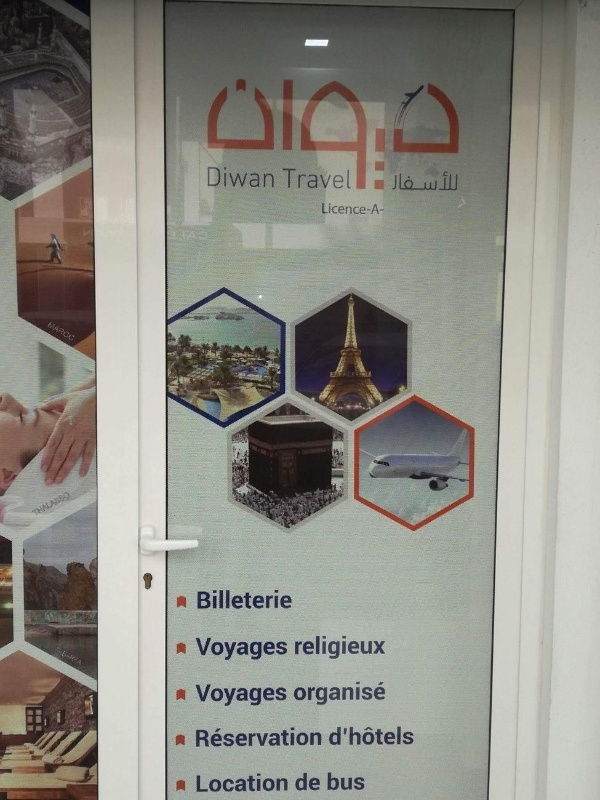text: (209, 77, 224, 153), (225, 77, 240, 153), (241, 77, 256, 153), (257, 77, 272, 153), (273, 77, 288, 153), (401, 81, 416, 154), (417, 81, 432, 154), (433, 81, 448, 154), (449, 81, 461, 154), (391, 81, 400, 154), (289, 77, 295, 153), (33, 490, 48, 517), (49, 490, 64, 517), (273, 637, 289, 661), (305, 681, 320, 706), (321, 681, 336, 706), (337, 681, 352, 706), (353, 681, 368, 706), (369, 681, 384, 706), (305, 635, 320, 660), (321, 635, 336, 660), (337, 635, 352, 660), (353, 635, 368, 660), (369, 635, 384, 660), (209, 637, 224, 661), (225, 637, 240, 661), (241, 637, 256, 661), (257, 637, 272, 661), (289, 167, 304, 191), (305, 167, 320, 191), (321, 167, 336, 191), (337, 167, 352, 191), (209, 166, 224, 189), (225, 166, 240, 189), (241, 166, 256, 189), (257, 166, 272, 189), (209, 684, 224, 707), (225, 684, 240, 707), (241, 684, 256, 707), (257, 684, 272, 707), (273, 684, 288, 707), (401, 170, 416, 192), (417, 170, 432, 192), (433, 170, 448, 192), (209, 588, 224, 610), (225, 588, 240, 610), (241, 588, 256, 610), (257, 588, 272, 610), (273, 588, 288, 610), (273, 773, 289, 793), (305, 772, 321, 792), (209, 727, 224, 748), (225, 727, 240, 748), (241, 727, 256, 748), (257, 727, 272, 748), (273, 727, 288, 748), (289, 727, 304, 748), (305, 727, 320, 748), (337, 725, 352, 746), (353, 725, 368, 746), (369, 725, 384, 746), (385, 725, 400, 746), (195, 637, 208, 661), (50, 321, 64, 343), (65, 647, 80, 667), (209, 773, 224, 793), (225, 773, 240, 793), (241, 773, 256, 793), (257, 773, 272, 793), (337, 772, 352, 792), (195, 684, 208, 707), (401, 725, 415, 746), (293, 681, 304, 706), (65, 321, 77, 343), (353, 772, 366, 792), (196, 727, 208, 748), (197, 588, 208, 610), (196, 773, 208, 793), (295, 635, 304, 660), (449, 170, 459, 192), (65, 490, 73, 517), (369, 202, 385, 215), (321, 202, 336, 215), (337, 202, 352, 215), (353, 202, 368, 215), (177, 229, 192, 242), (193, 229, 208, 242), (295, 772, 304, 792), (327, 772, 336, 792), (392, 170, 400, 192), (329, 725, 336, 746), (282, 167, 288, 191), (84, 228, 96, 239), (167, 229, 176, 242), (289, 588, 293, 610), (207, 77, 208, 153), (273, 166, 276, 189), (61, 647, 64, 667), (81, 647, 84, 667), (30, 490, 32, 517), (206, 166, 208, 189), (321, 727, 323, 748), (385, 681, 386, 706), (385, 635, 386, 660)
